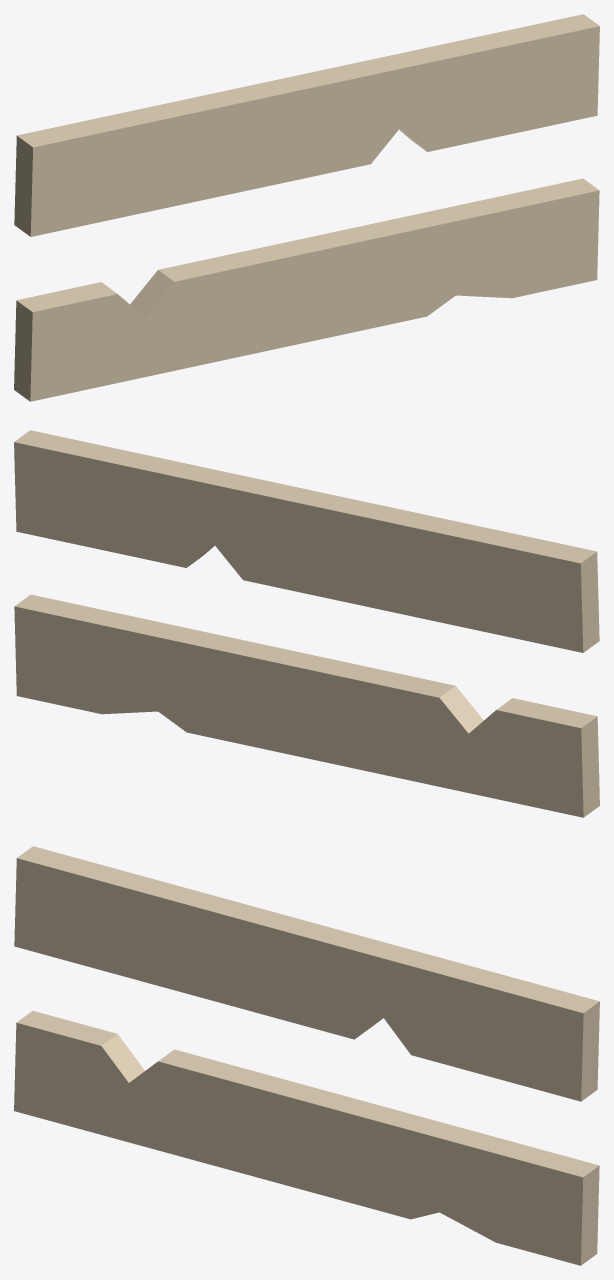
The model's file is Prop_Fence_Boards_4.glb.
The picture shows the model from 3 angles, top to bottom: view 1: azimuth 30°, elevation 25°; view 2: azimuth 150°, elevation 25°; view 3: azimuth 330°, elevation 25°; orthographic projection.
Parts seen in each view (by area): view 1: object1, object2; view 2: object1, object2; view 3: object1, object2.
Boxes of the visible parts, x1,y1,x2,y2 form: object1: (14, 14, 599, 236); object2: (14, 178, 599, 401); object1: (14, 430, 599, 652); object2: (14, 594, 599, 817); object1: (14, 846, 599, 1101); object2: (14, 1011, 599, 1265).
Size of the model in its own units: 1 by 0.4552 by 0.05.
